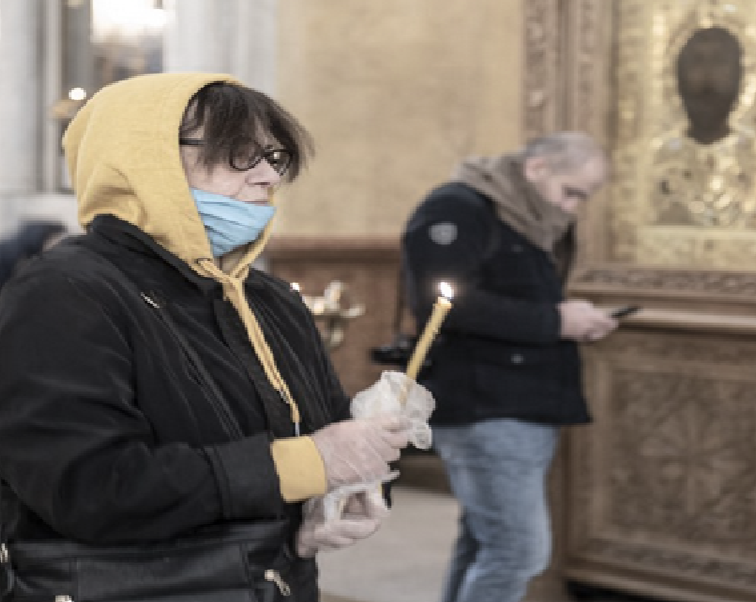mask_weared_incorrect: (70, 72, 296, 257)
